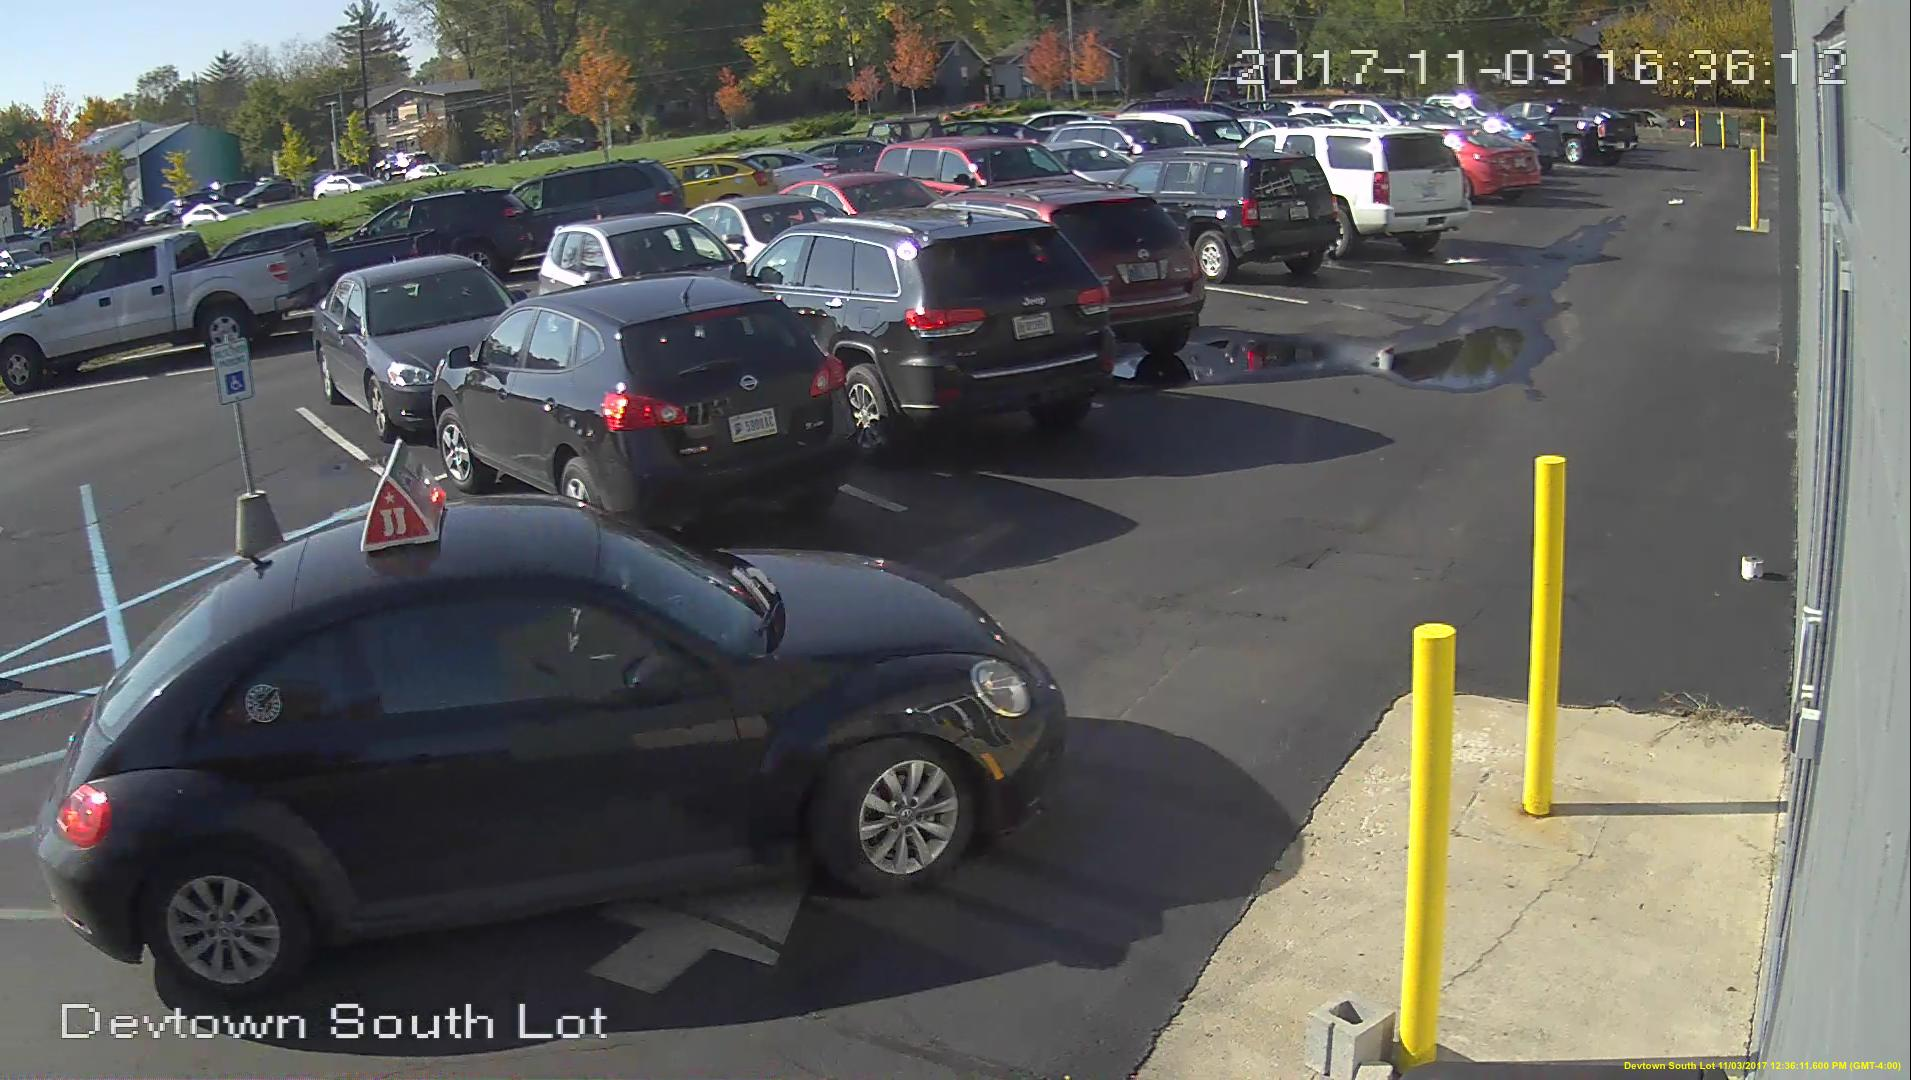jimmy_johns: (356, 436, 450, 556)
